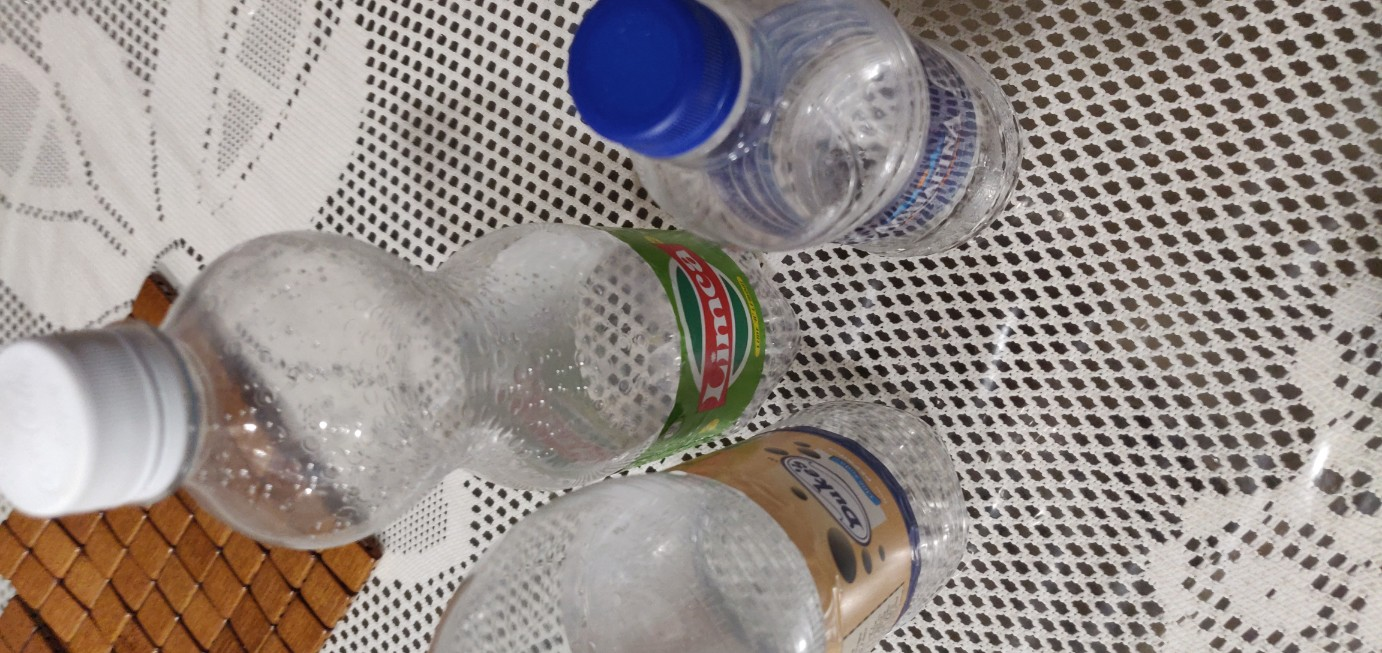Electronics: (5, 198, 808, 558), (552, 8, 1056, 273)
